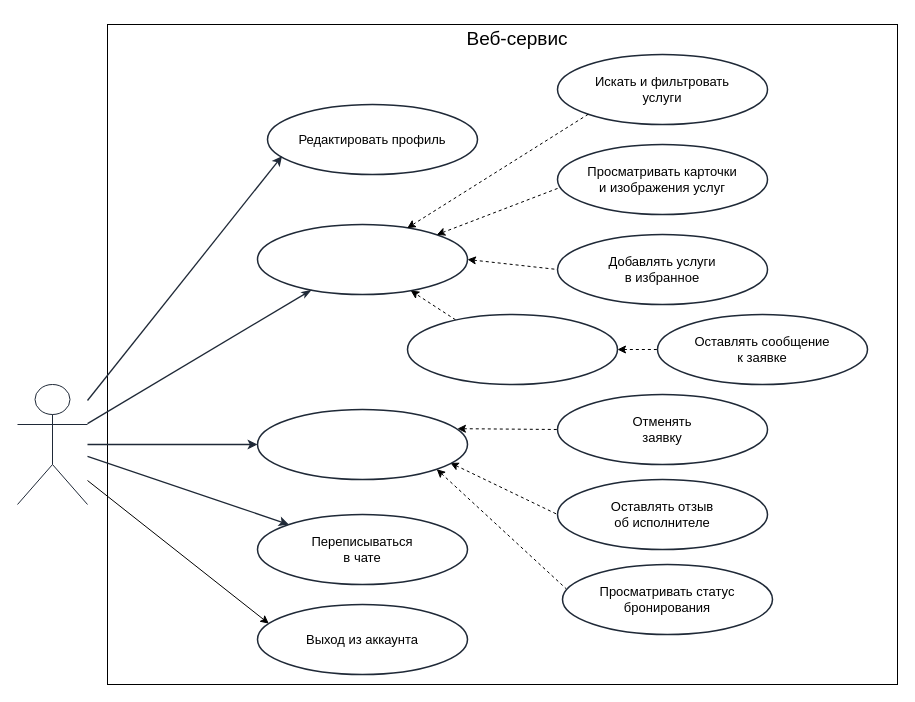
Some shapes in this 915 by 702 pixel diagram are drawn without their labels. The shapes that lost their labels are listed below. From the top down, each one's centre as x and y in pixels, then its label:
At point 362,259: "Просматривать каталог услуг".
At point 512,349: "Бронировать услуги".
At point 52,444: "Заказчик".
At point 362,444: "Просматривать список своих заявок".
